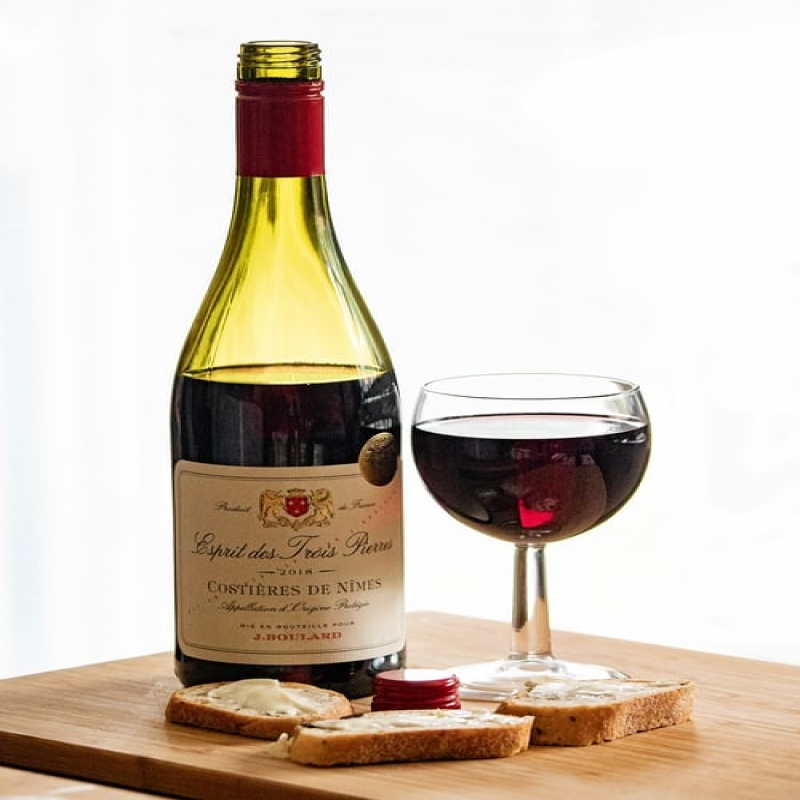wine: (172, 39, 411, 682)
